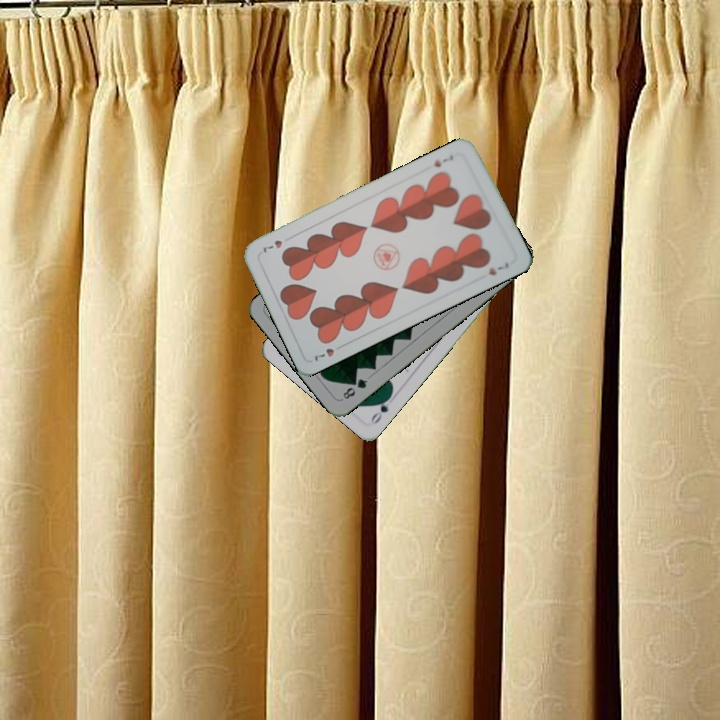G8: (338, 374, 370, 402)
GO: (367, 391, 394, 427)
H7: (310, 340, 347, 364), (430, 151, 456, 170)
